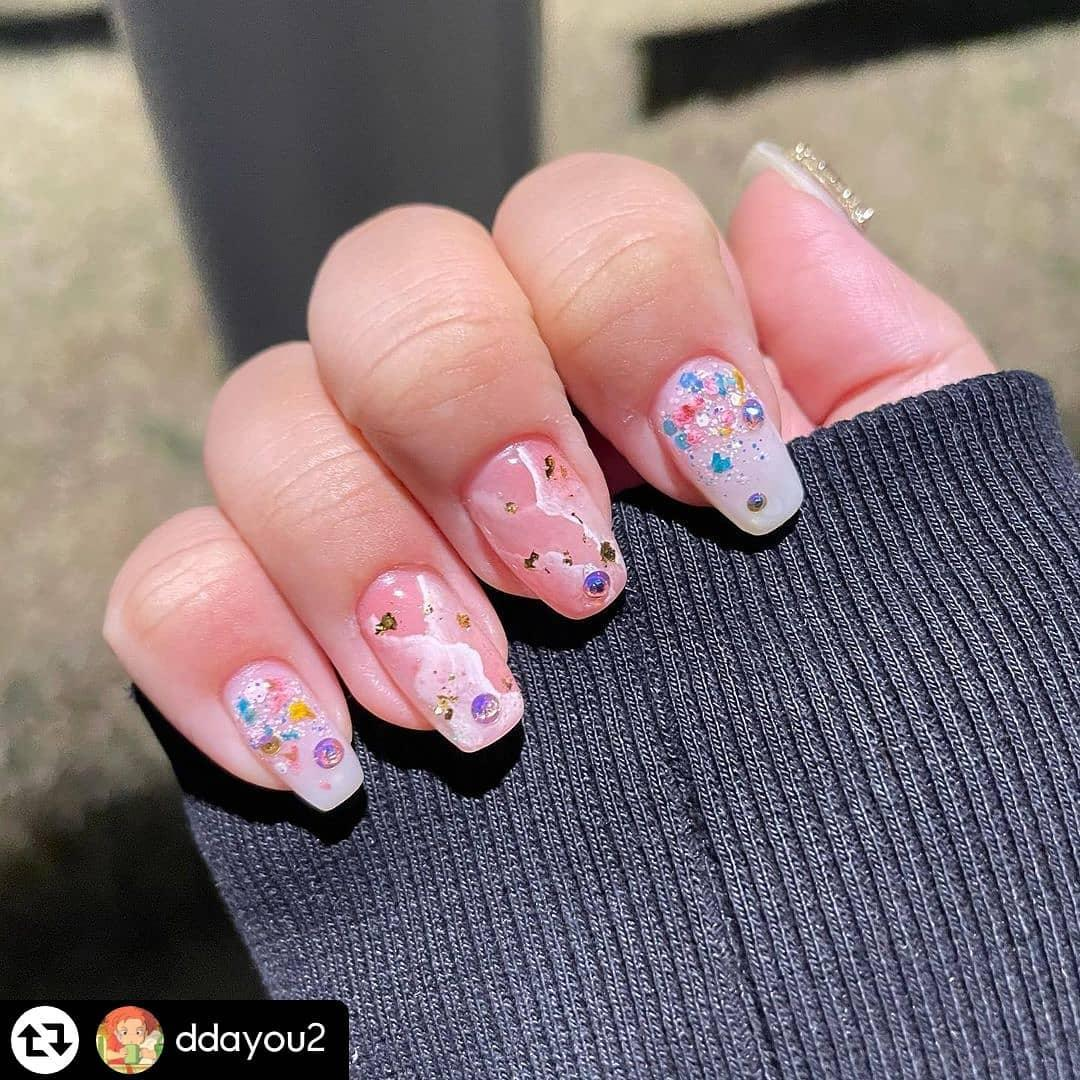nail: (305, 201, 628, 620), (490, 149, 805, 536), (101, 503, 364, 813), (354, 563, 525, 753), (458, 433, 627, 620), (650, 352, 805, 537), (221, 655, 364, 812)
